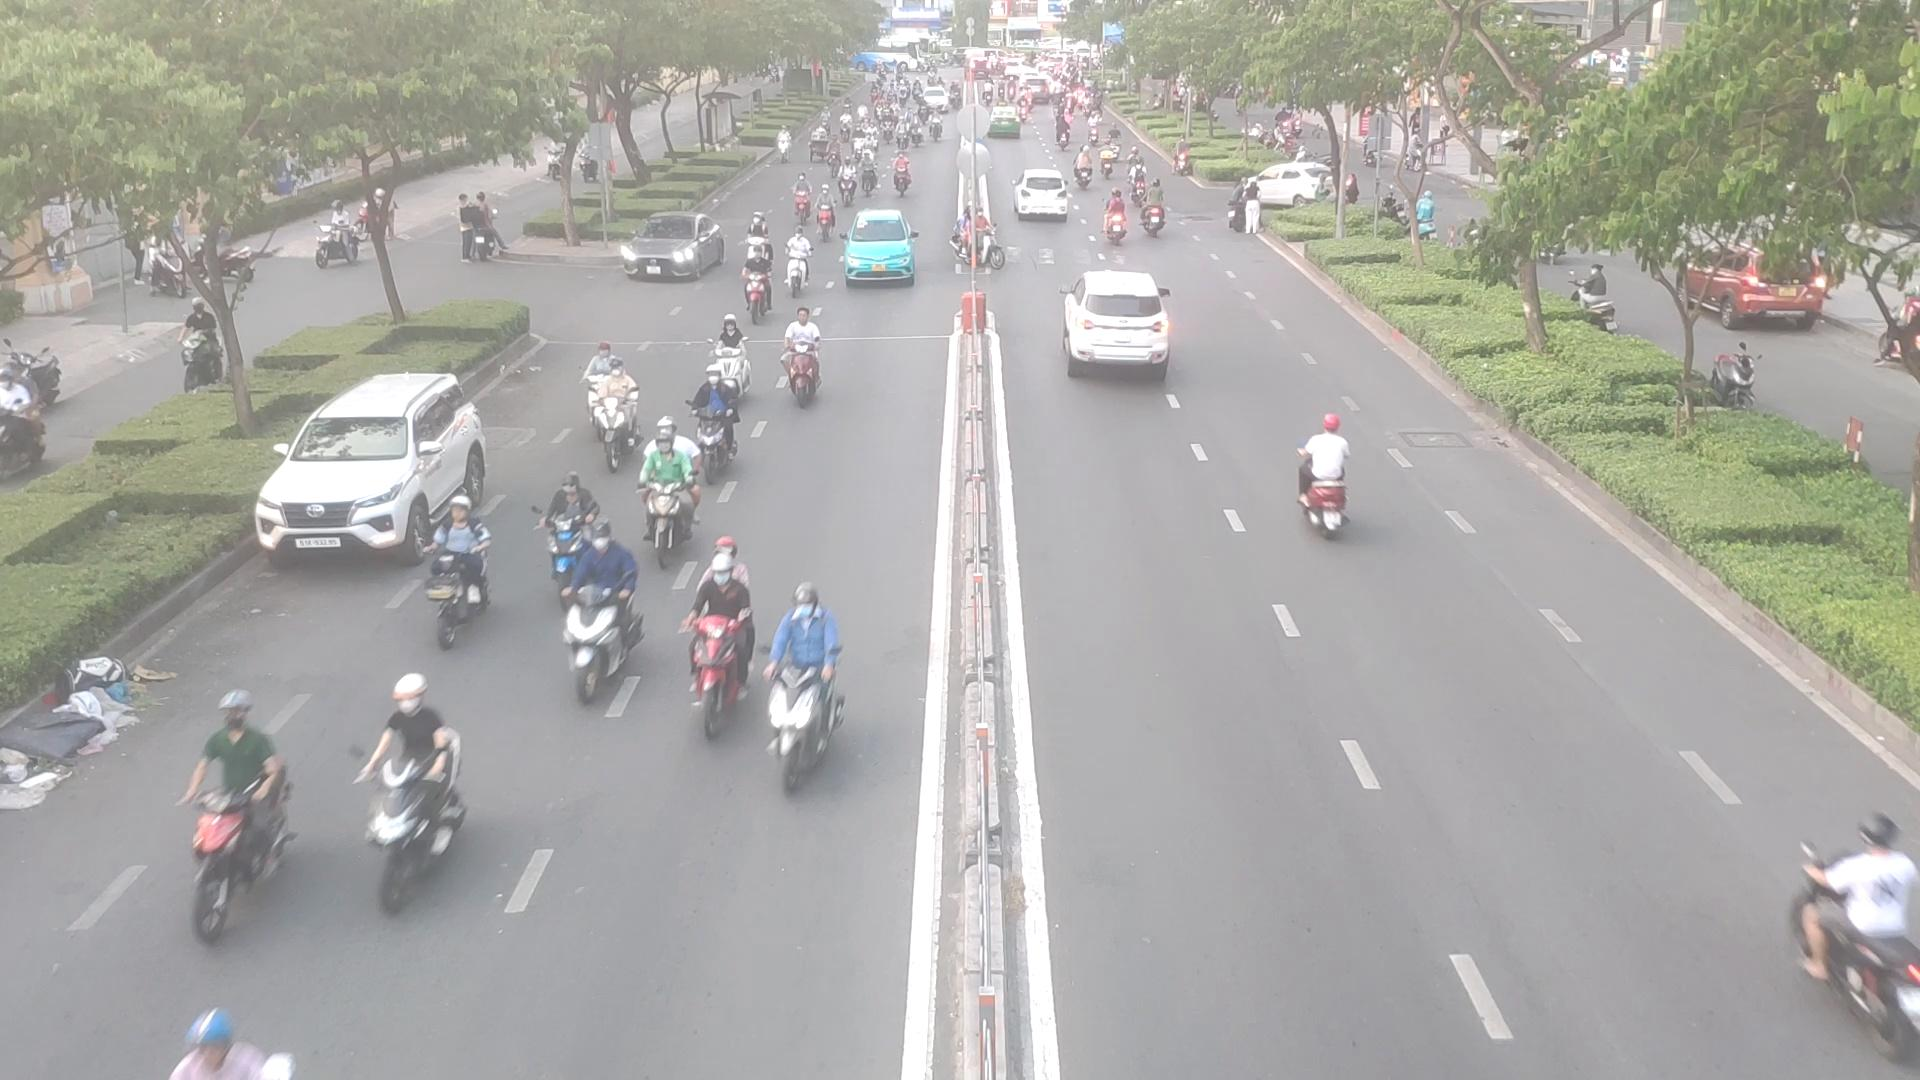car: (258, 375, 495, 567), (1064, 272, 1170, 367), (618, 212, 731, 280), (840, 212, 913, 289), (1244, 161, 1336, 214), (1017, 167, 1073, 219)
motorbike: (1760, 818, 1920, 1054), (158, 686, 293, 914), (369, 682, 454, 923), (769, 607, 855, 793), (675, 558, 748, 738), (563, 546, 644, 678), (533, 481, 615, 607), (636, 429, 705, 545), (427, 555, 495, 653), (1302, 414, 1348, 538), (595, 377, 646, 473), (785, 320, 833, 407), (709, 318, 750, 401), (699, 378, 732, 475), (955, 215, 1000, 272), (584, 349, 615, 426), (738, 208, 775, 266), (742, 255, 774, 318), (1139, 186, 1176, 240), (1105, 196, 1135, 243), (786, 235, 814, 285), (890, 157, 923, 198), (832, 165, 857, 206), (791, 173, 814, 218), (819, 193, 840, 237), (857, 160, 880, 193)
